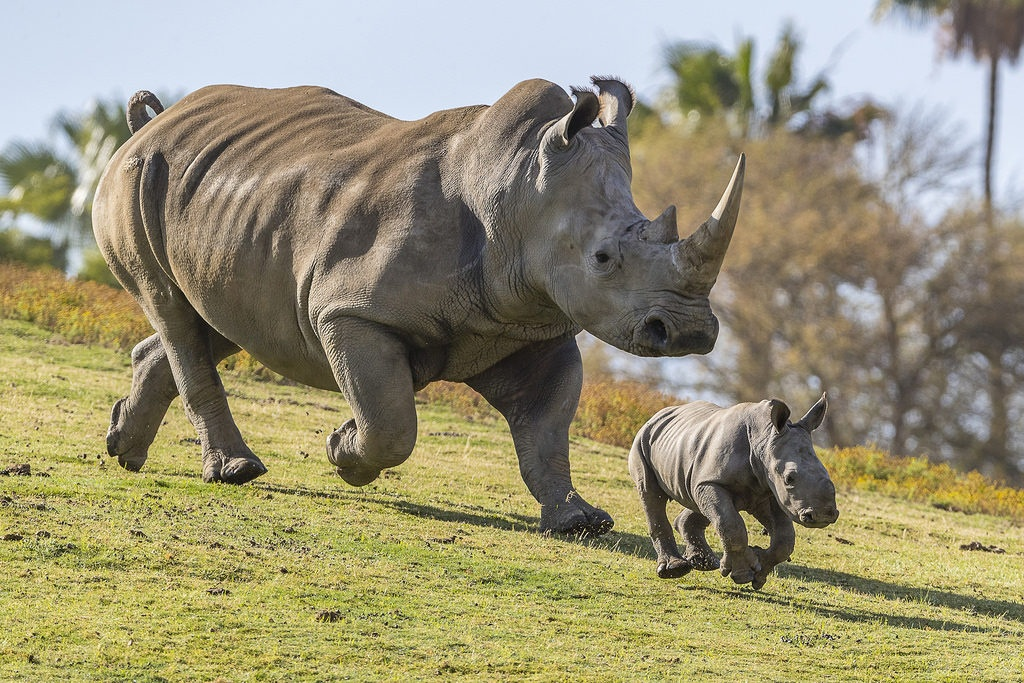rhino: (88, 75, 746, 534), (627, 393, 840, 590)
